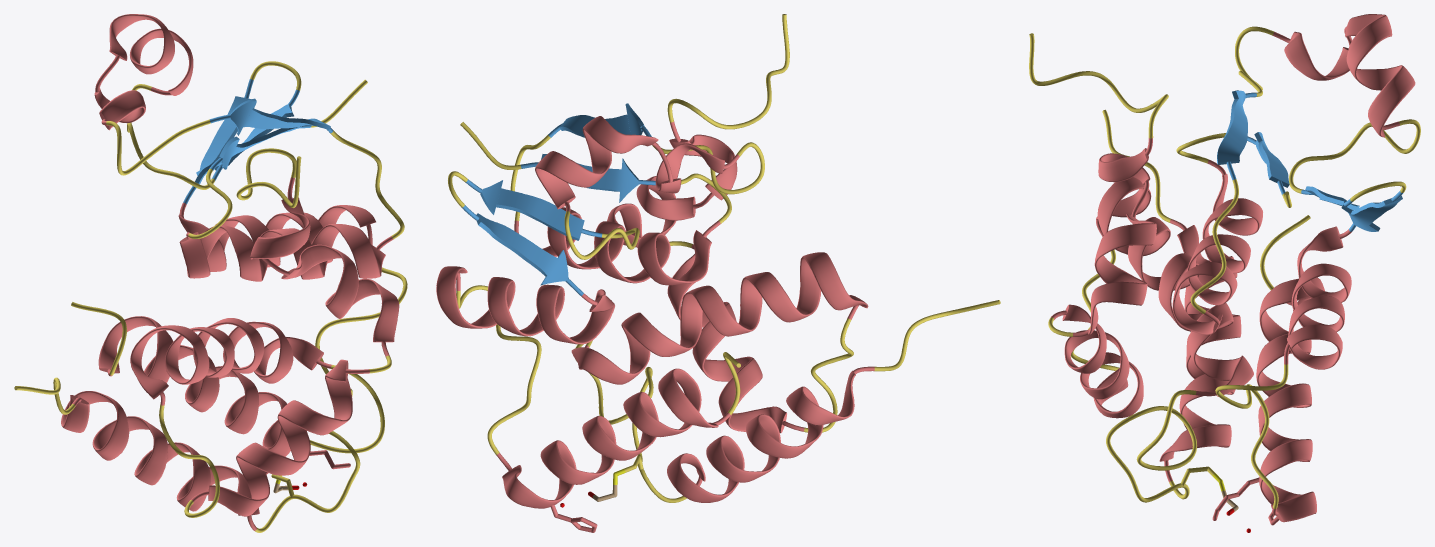
3 views of the same model, side by side, from view 1: azimuth 30°, elevation 25°; view 2: azimuth 150°, elevation 25°; view 3: azimuth 270°, elevation 25° (orthographic).
Parts seen in each view (by area): view 1: New_Node; view 2: New_Node; view 3: New_Node.
Part boxes in pixels (left/top/right/bottom): New_Node: left=14, top=14, right=407, bottom=532; New_Node: left=436, top=14, right=1000, bottom=532; New_Node: left=1029, top=14, right=1420, bottom=532.
Bounding box in the file's own units: 1578870 × 1517193 × 1151567.
